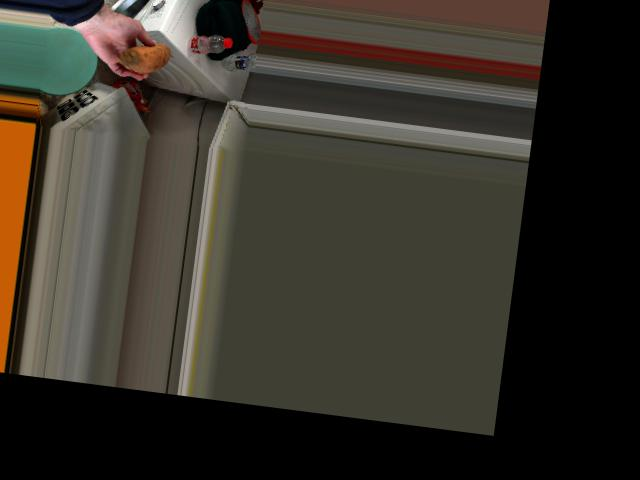sweet_potato: (112, 42, 173, 74)
